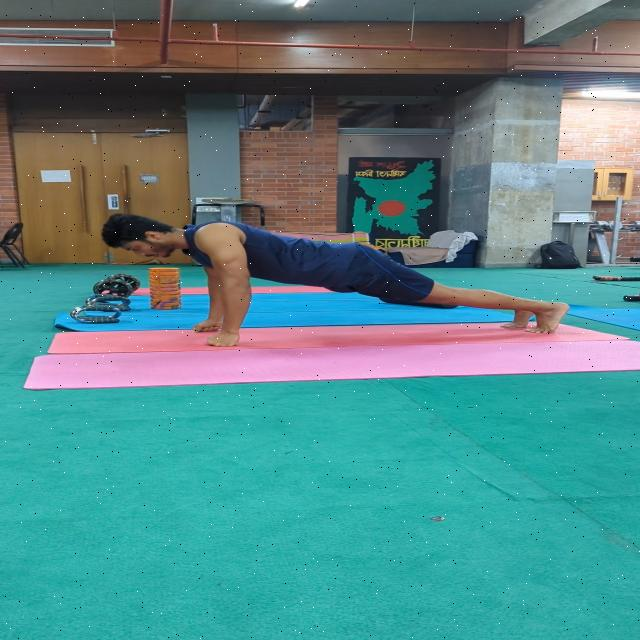Normal_PushUps: (95, 200, 581, 357)
